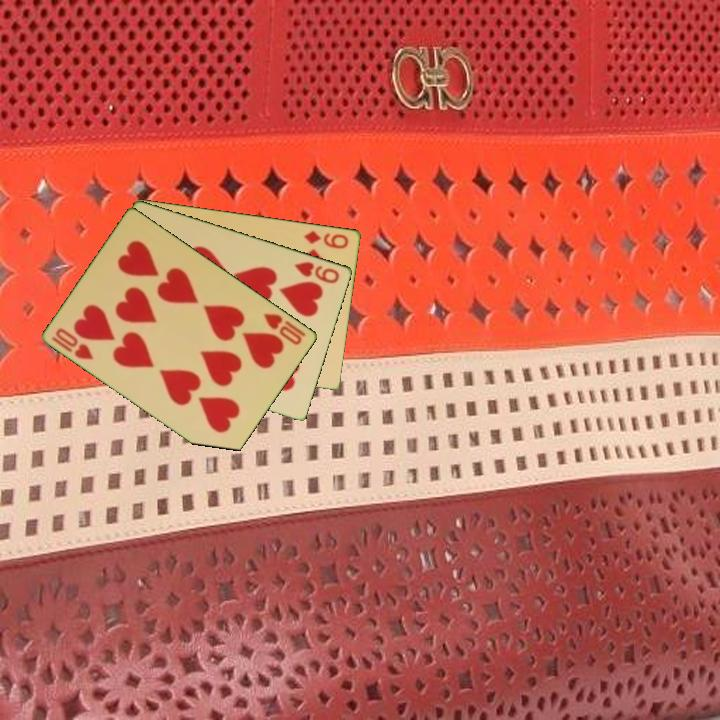10h: (260, 309, 309, 348), (48, 324, 97, 363)
9d: (300, 227, 352, 251)
9h: (291, 258, 342, 286)
